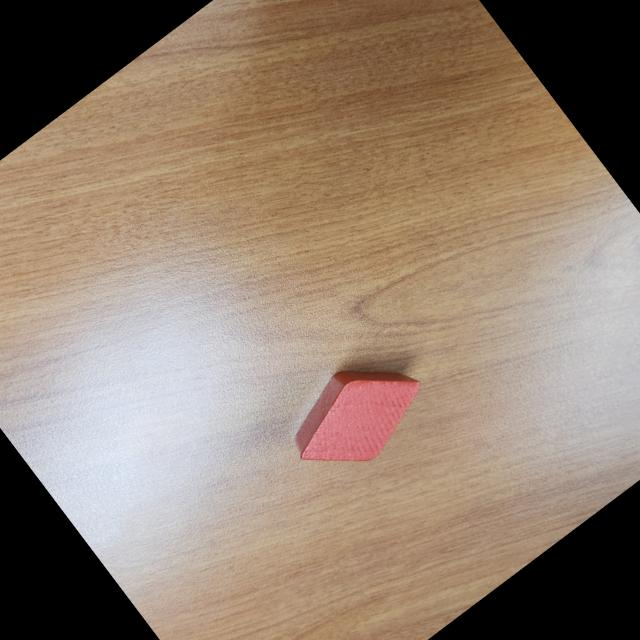red: (272, 336, 440, 496)
